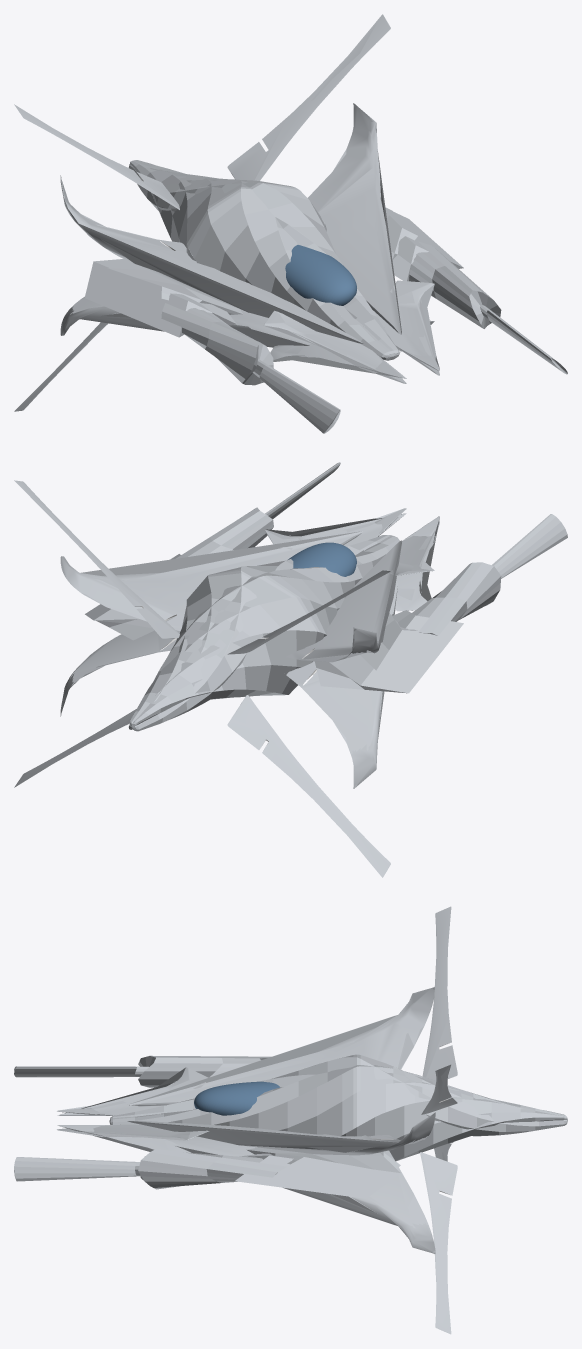
File: Enemy005.glb
The picture shows the model from 3 angles, top to bottom: view 1: azimuth 30°, elevation 25°; view 2: azimuth 150°, elevation 25°; view 3: azimuth 270°, elevation 25°; orthographic projection. The views are drawn at different scales.
Visible parts, largest first — view 1: assembly_gltf_export_temp; view 2: assembly_gltf_export_temp; view 3: assembly_gltf_export_temp.
Boxes of the visible parts, left/top/right/bottom form: assembly_gltf_export_temp: left=14, top=14, right=567, bottom=433; assembly_gltf_export_temp: left=14, top=462, right=567, bottom=877; assembly_gltf_export_temp: left=14, top=906, right=567, bottom=1334.
Size of the model in its own units: 3.08 by 2.46 by 4.57.
